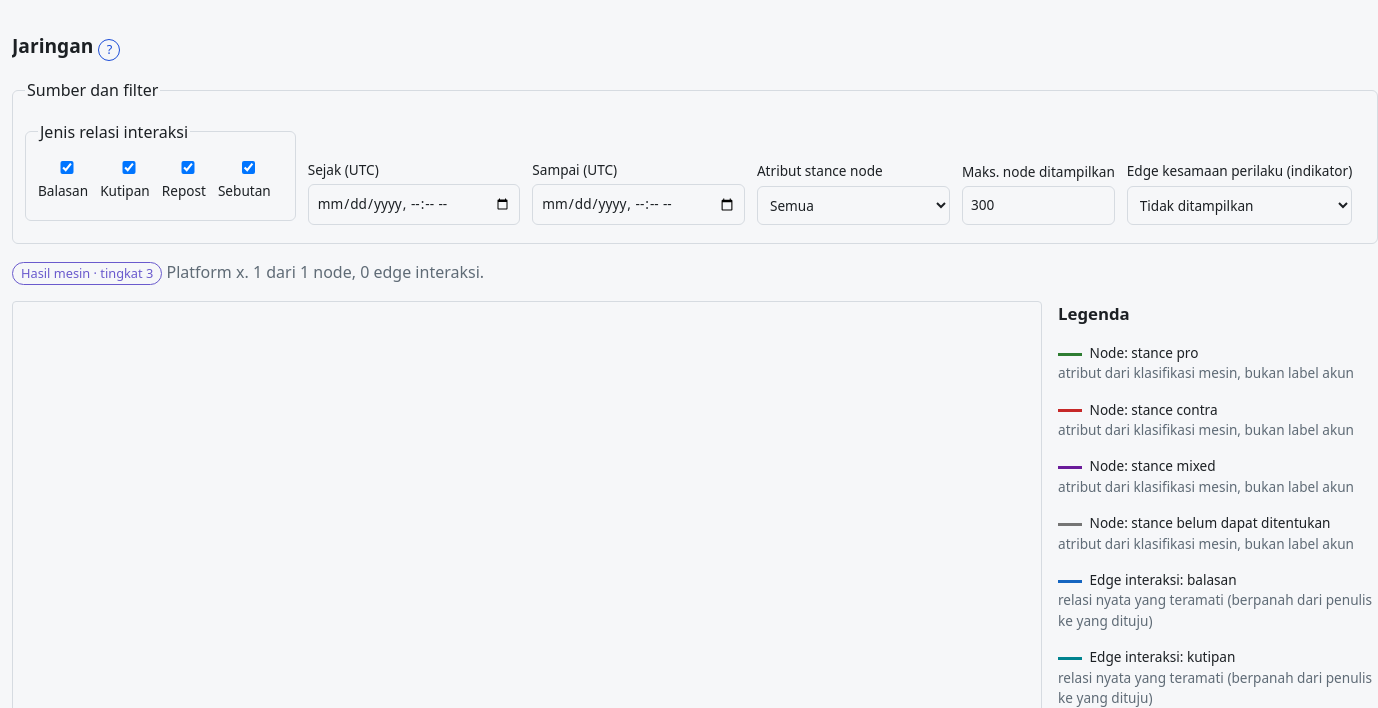
Test: NetworkPanel: graf dan indikator tidak mencampur dataset atau platform (FR-081) › menolak data indikator yang platformnya tidak cocok dengan graf walau run-nya ditawarkan
Select "Run #11 (dataset 10)" in the dropdown named "Analisis indikator" at (1240, 205), box [1127,186,1352,225]
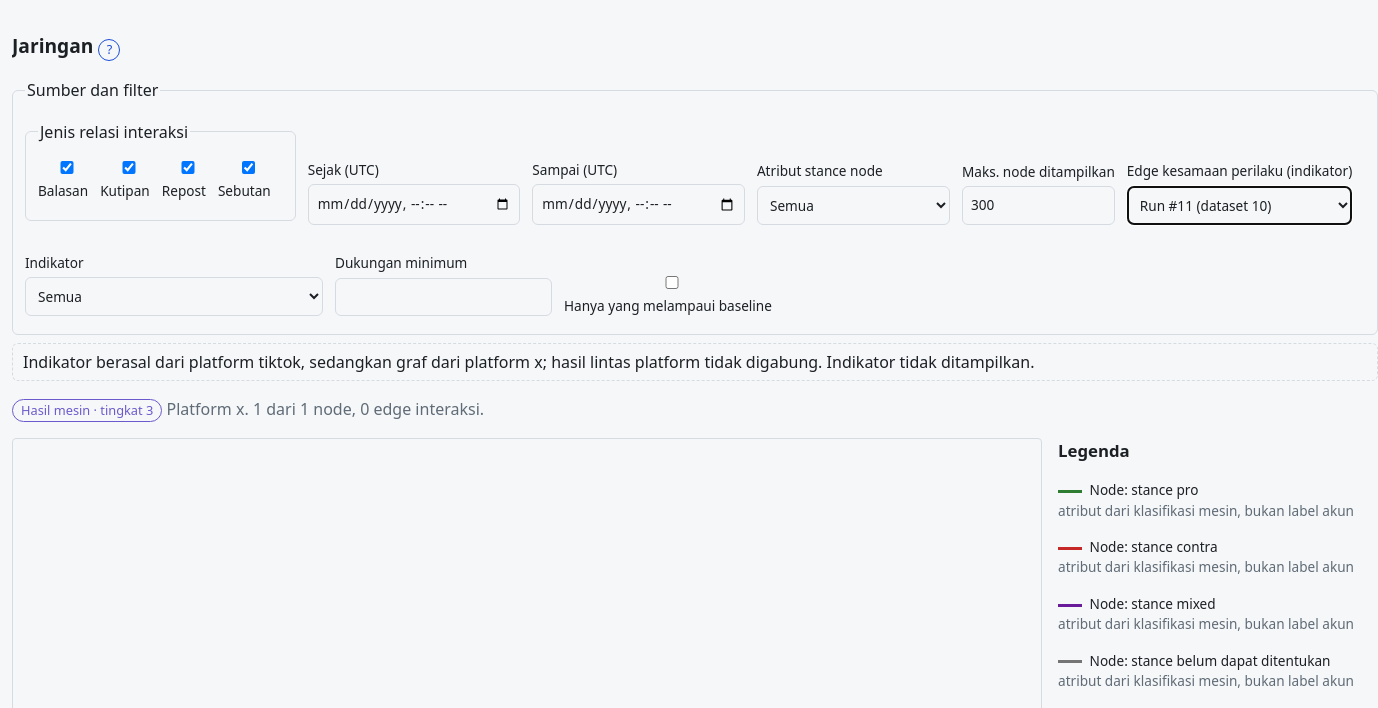
expect the message shows "platform tiktok": met, box [23,351,822,373]
expect the message shows "platform x": met, box [23,351,822,373]
